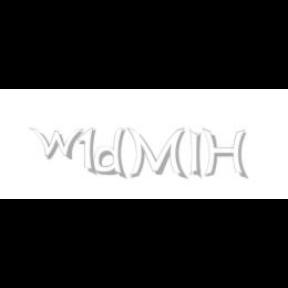1: (75, 128, 97, 176)
H: (202, 128, 248, 180)
I: (190, 128, 202, 180)
M: (126, 128, 186, 180)
d: (94, 128, 130, 180)
w: (30, 128, 88, 160)
